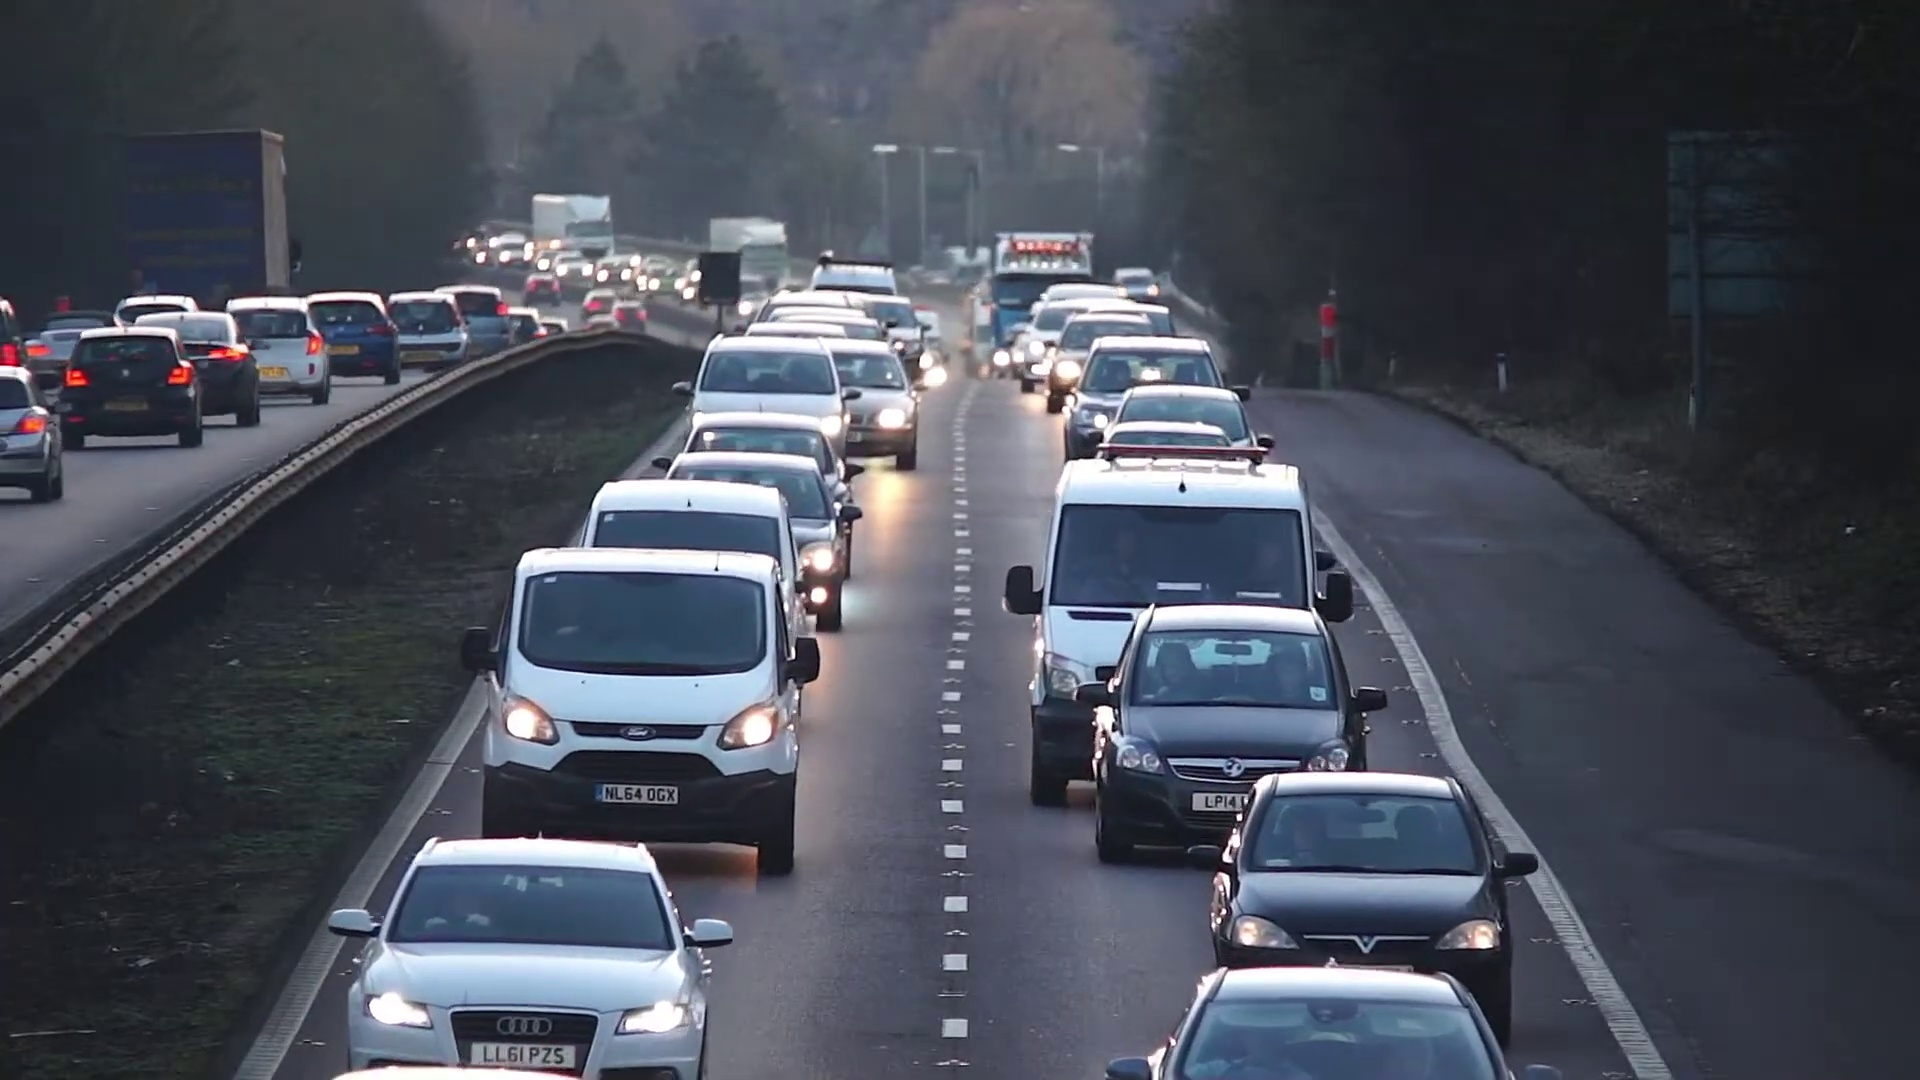license_plate: (468, 1039, 572, 1074), (596, 783, 678, 808)
